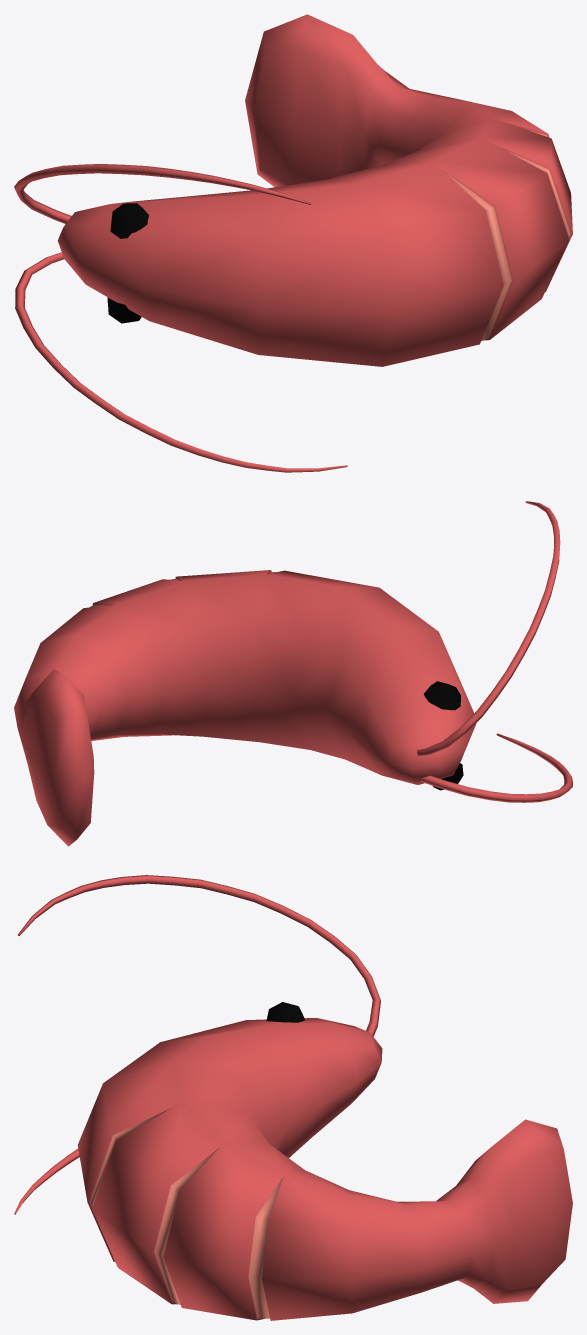
The model's file is Krill_Food.glb.
3 views of the same model, one above another, from view 1: azimuth 30°, elevation 25°; view 2: azimuth 150°, elevation 25°; view 3: azimuth 270°, elevation 25° (orthographic). The views are drawn at different scales.
Parts seen in each view (by area): view 1: Krill_Food; view 2: Krill_Food; view 3: Krill_Food.
Boxes of the visible parts, x1,y1,x2,y2 form: Krill_Food: [14, 14, 572, 472]; Krill_Food: [14, 501, 572, 846]; Krill_Food: [14, 875, 572, 1320].
Size of the model in its own units: 0.0913 by 0.0475 by 0.0854.
Materials: 1 (1 with a texture image).
